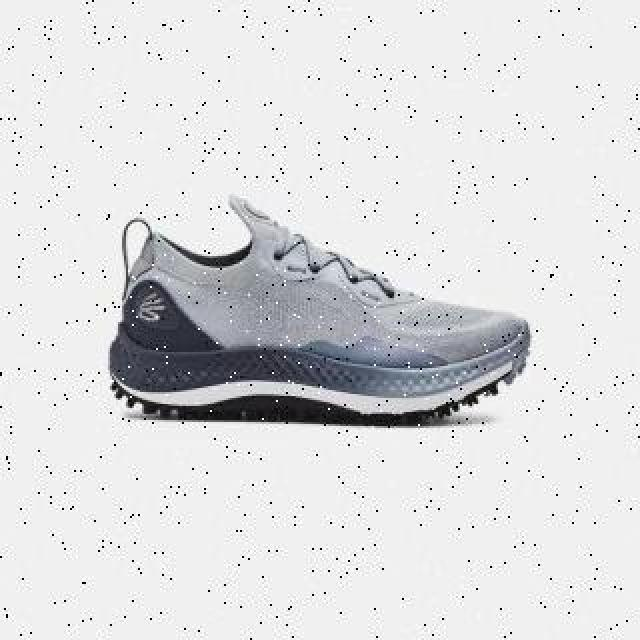shoe: (105, 195, 531, 421)
